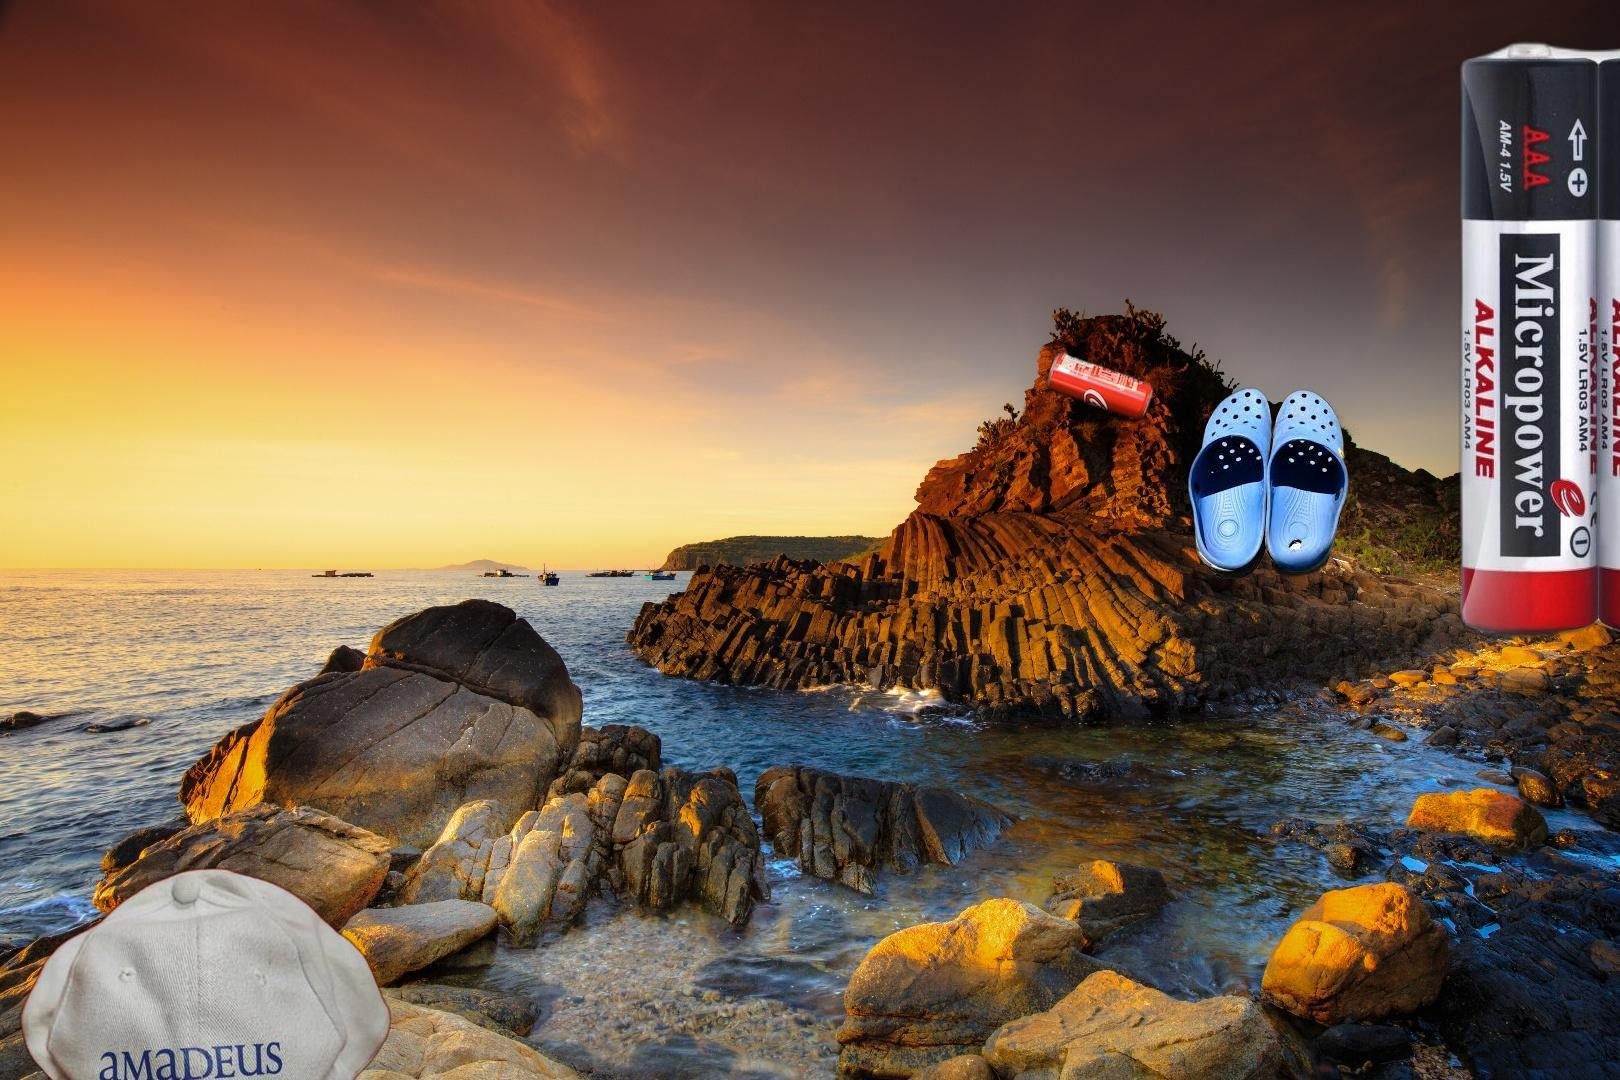battery: (1454, 35, 1620, 644)
clothes: (16, 861, 394, 1080)
metal-cans: (1041, 344, 1158, 428)
paper-bag: (1533, 7, 1620, 229)
penholder: (1610, 254, 1620, 1080)
shoes: (1185, 385, 1352, 579)
